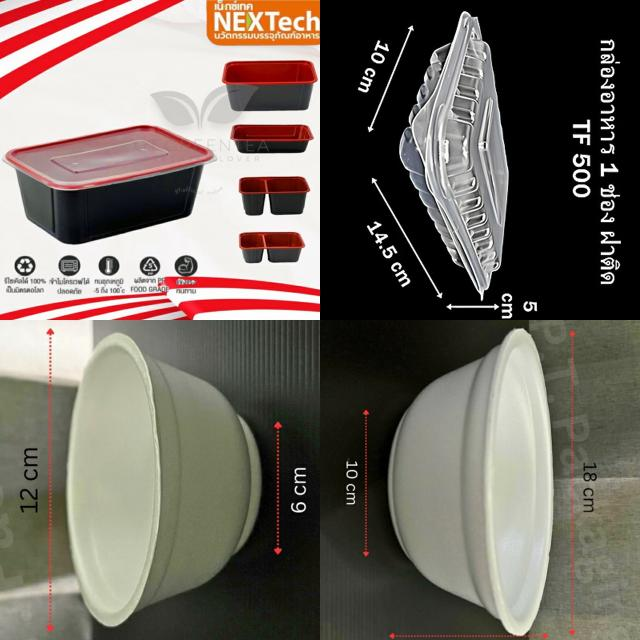Single-Use-Plastic: (68, 334, 261, 626), (388, 329, 554, 634), (400, 11, 509, 298), (5, 125, 215, 243), (222, 61, 318, 111), (240, 178, 310, 215), (230, 125, 314, 152), (239, 232, 305, 262)
